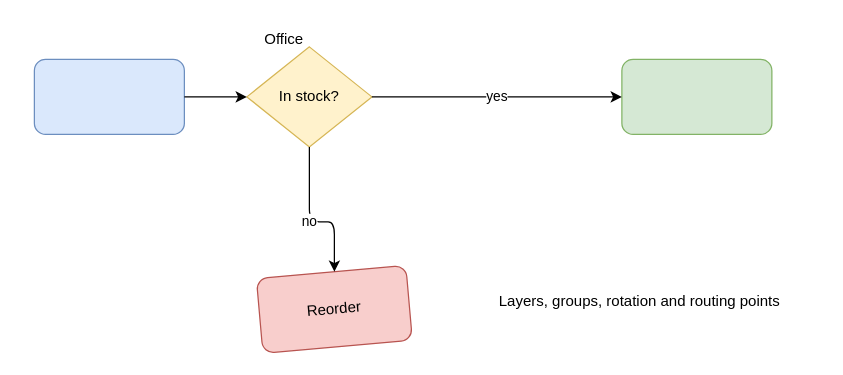
This 843x375 diagram has some shape labels left out. Here are the shapes that lost their labels. From the top down, the centre of each, then its label:
At point (108, 96): "Order arrives".
At point (696, 96): "Ship".
